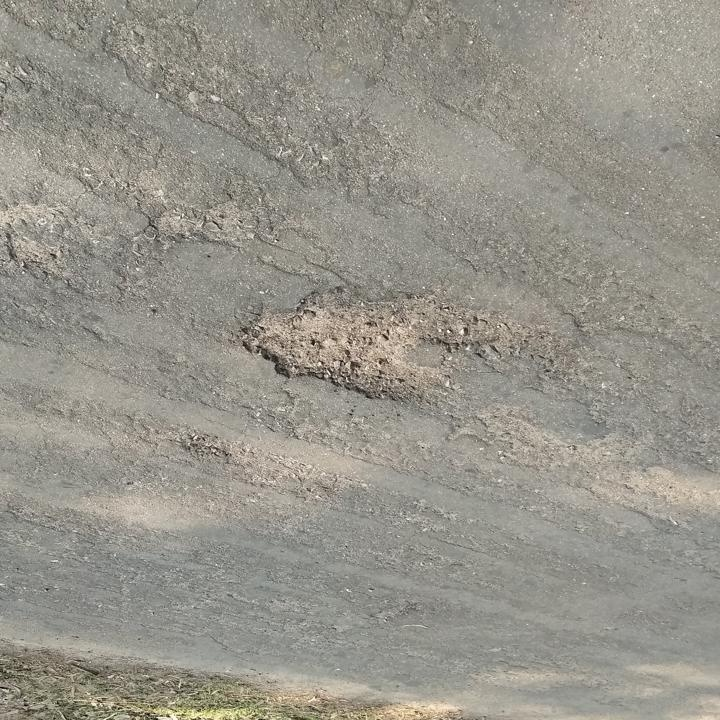pothole: (240, 284, 518, 409)
